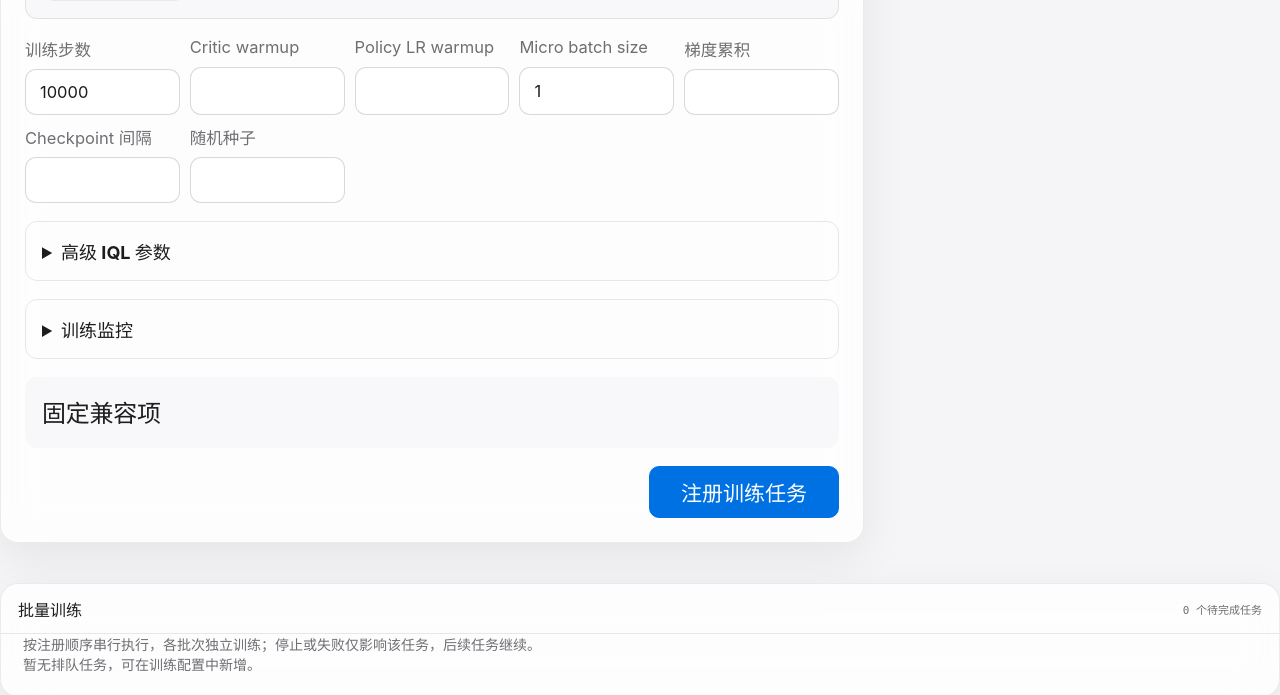
Test case: dataset-pinned training reward › shows a rejected pinned-version error without starting TensorBoard
This screenshot has width=1280, height=695.
(page scrolled)
Click the button "注册训练任务" at (744,492), box 649,466 -> 839,518
(page scrolled)
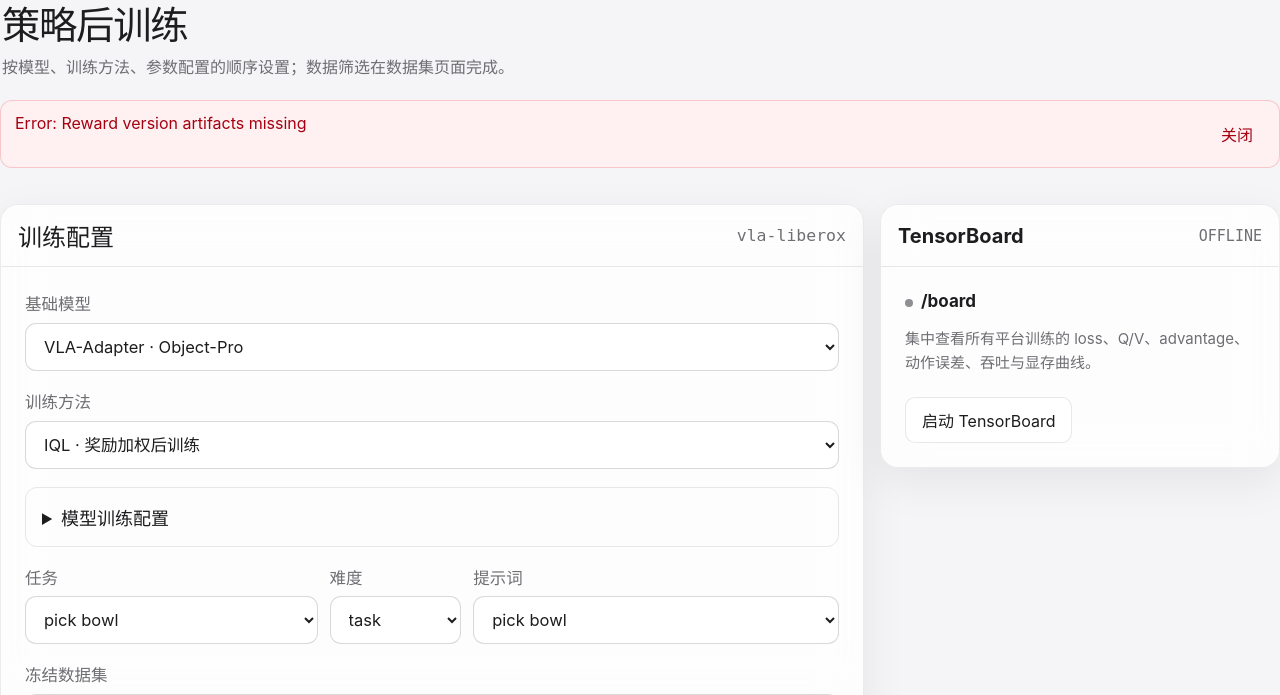
Check: the text "Error: Reward version artifacts missing" is shown, box 15,114 -> 307,134
